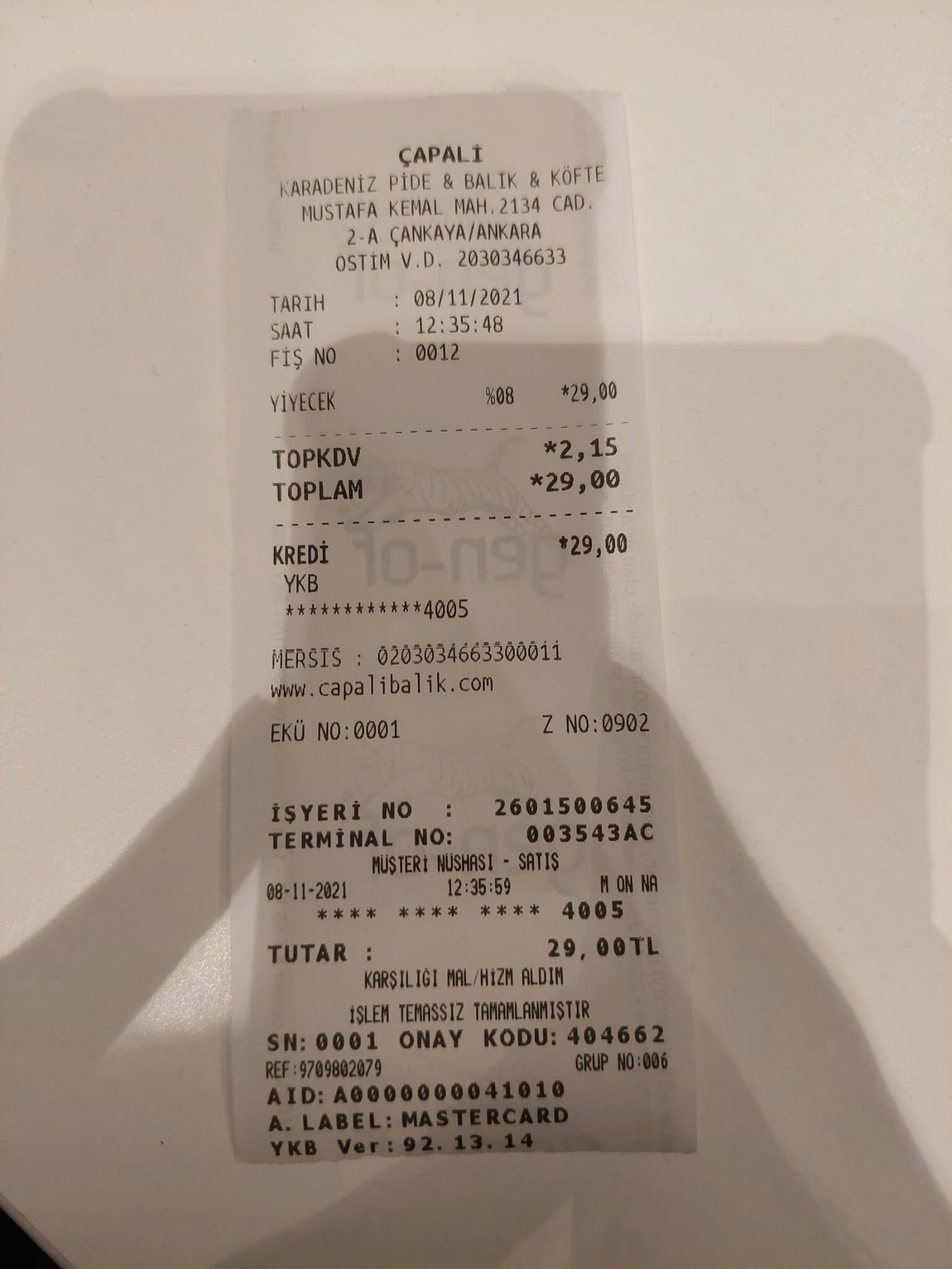date: (538, 462, 630, 507)
price: (405, 282, 530, 313)
workplace: (267, 138, 609, 247)
